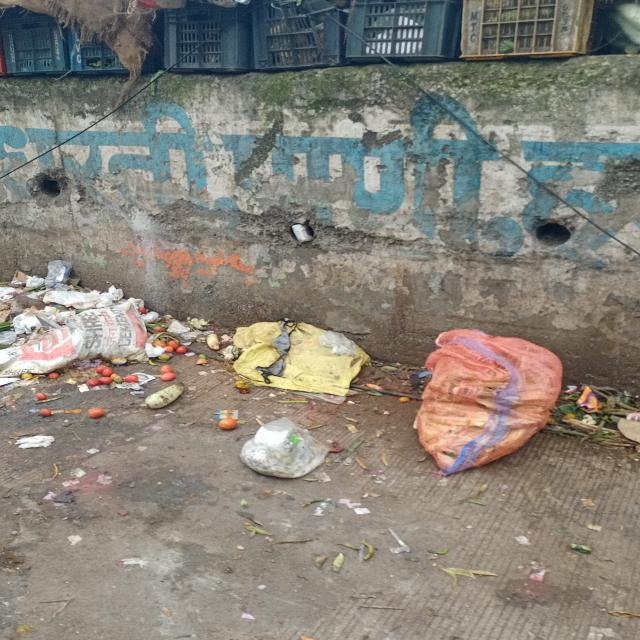garbage: (233, 320, 612, 470), (0, 263, 187, 391)
